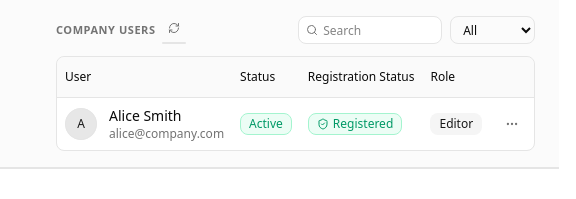
Test: CompanyUsersRow — status action menu › hides the status action entirely for the logged-in user's own row
Check: the text "Alice Smith" is shown, box [109,106,182,124]
Click the button named "Actions for Alice Smith" at (512, 124), box [498,110,526,138]
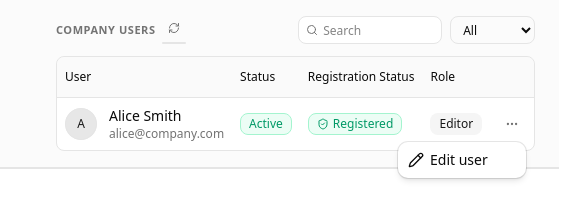
Check: the menu item "Edit user" is shown, box [408,150,488,169]
